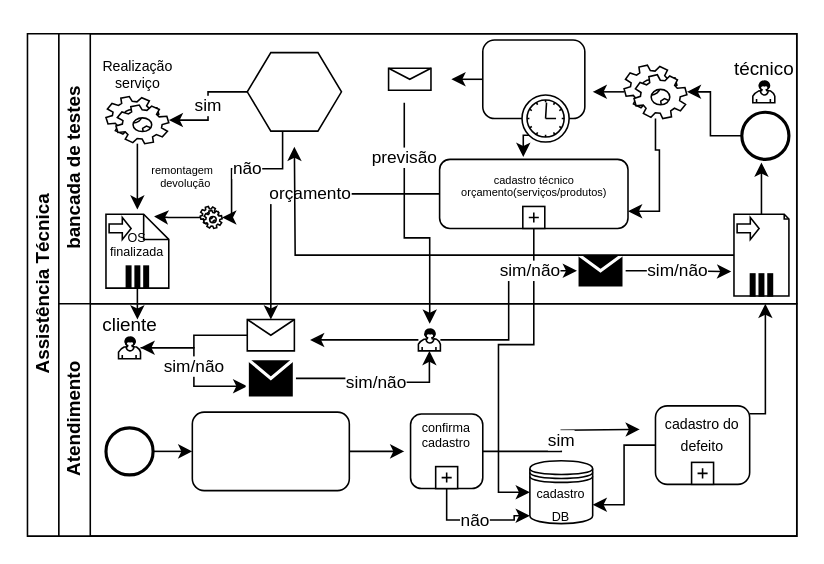
Some shapes in this 824 by 564 pixel diagram are drawn without their labels. Here are the shapes that lost their labels. From the top down, the centre of each, then its label:
At (x=293, y=91): "execução OS".
At (x=533, y=78): "constatação defeito e previsão orçamento".
At (x=655, y=91): "testes".
At (x=760, y=254): "OS".
At (x=428, y=339): "atendente".
At (x=270, y=451): "Chegada do cliente e entrada do equipamento".
